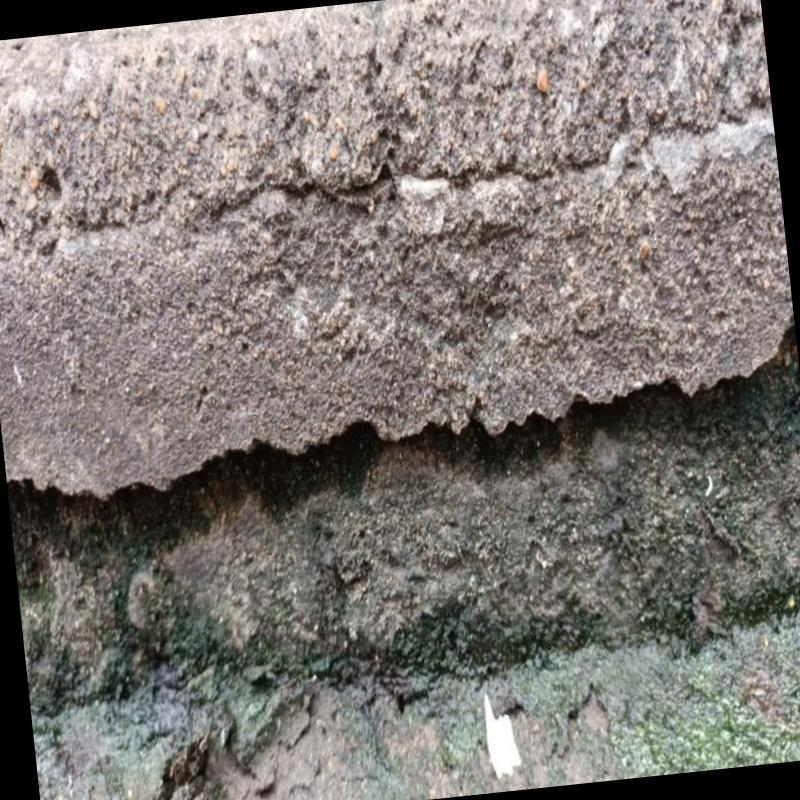pothole: (6, 324, 800, 586)
